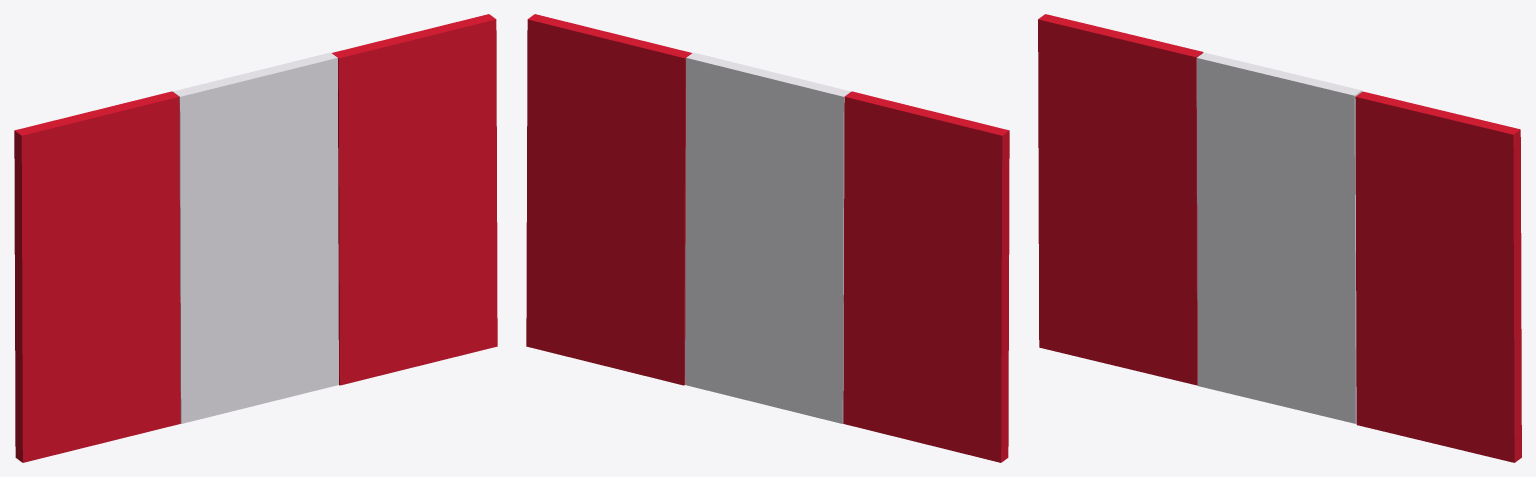
The model's file is peru.fbx.
3 views of the same model, side by side, from view 1: azimuth 30°, elevation 25°; view 2: azimuth 150°, elevation 25°; view 3: azimuth 330°, elevation 25° (orthographic).
Parts seen in each view (by area): view 1: Cube.003, Cube.001, Cube.002; view 2: Cube.003, Cube.001, Cube.002; view 3: Cube.001, Cube.002, Cube.003.
Part boxes in pixels (left/top/right/bottom): Cube.003: left=14, top=91, right=180, bottom=462; Cube.001: left=332, top=14, right=497, bottom=385; Cube.002: left=173, top=52, right=338, bottom=423; Cube.003: left=843, top=91, right=1009, bottom=462; Cube.001: left=526, top=14, right=691, bottom=385; Cube.002: left=685, top=52, right=850, bottom=423; Cube.001: left=1355, top=91, right=1521, bottom=462; Cube.002: left=1196, top=52, right=1361, bottom=423; Cube.003: left=1038, top=14, right=1203, bottom=385.
Size of the model in its own units: 1430 by 943 by 38.21.
